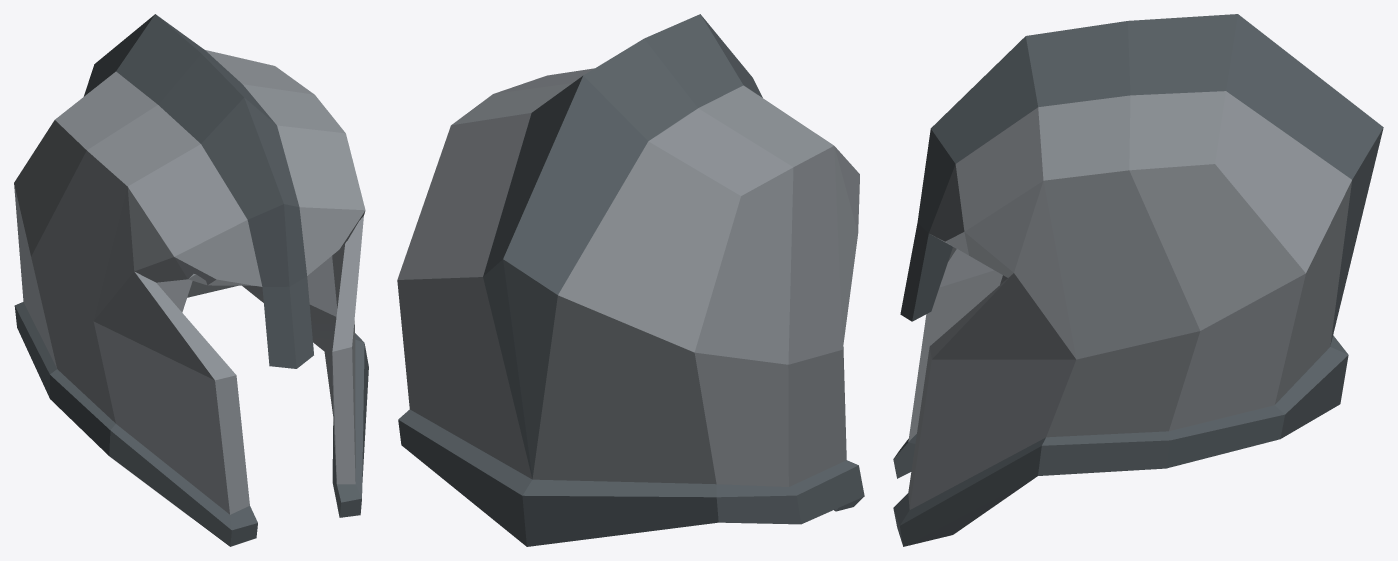
Rendered from Chr_HeadCoverings_No_Hair_04_Static.fbx.
3 renders of one model, left to right at view 1: azimuth 30°, elevation 25°; view 2: azimuth 150°, elevation 25°; view 3: azimuth 270°, elevation 25°, orthographic. The views are drawn at different scales.
Visible parts, largest first — view 1: Chr_HeadCoverings_No_Hair_04_Static; view 2: Chr_HeadCoverings_No_Hair_04_Static; view 3: Chr_HeadCoverings_No_Hair_04_Static.
Part boxes in pixels (<box>): Chr_HeadCoverings_No_Hair_04_Static: <box>14,14,368,546</box>; Chr_HeadCoverings_No_Hair_04_Static: <box>397,14,864,546</box>; Chr_HeadCoverings_No_Hair_04_Static: <box>893,14,1383,546</box>.
Size of the model in its own units: 0.2741 by 0.3877 by 0.3481.
